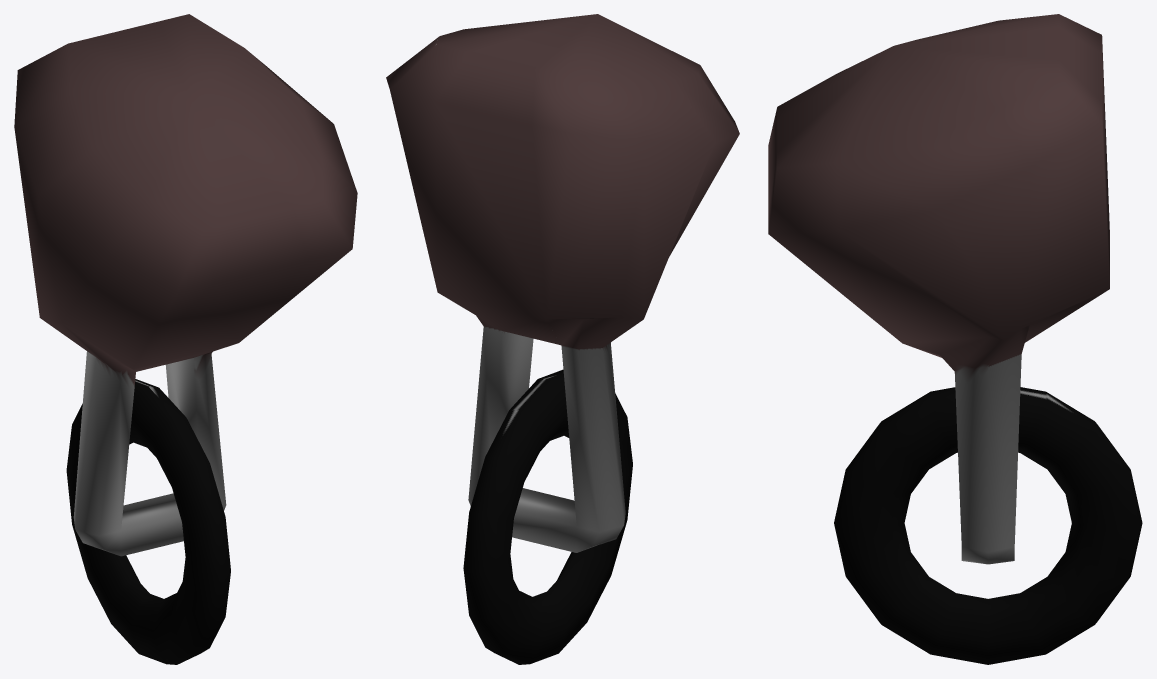
The model's file is Pies RuedasD.fbx.
3 renders of one model, left to right at view 1: azimuth 30°, elevation 25°; view 2: azimuth 150°, elevation 25°; view 3: azimuth 270°, elevation 25°, orthographic. The views are drawn at different scales.
Visible parts, largest first — view 1: Pies RuedasD; view 2: Pies RuedasD; view 3: Pies RuedasD.
Part boxes in pixels (left/top/right/bottom): Pies RuedasD: left=14, top=14, right=357, bottom=664; Pies RuedasD: left=386, top=14, right=739, bottom=664; Pies RuedasD: left=768, top=14, right=1142, bottom=664.
Size of the model in its own units: 16.38 by 31.64 by 17.16.
